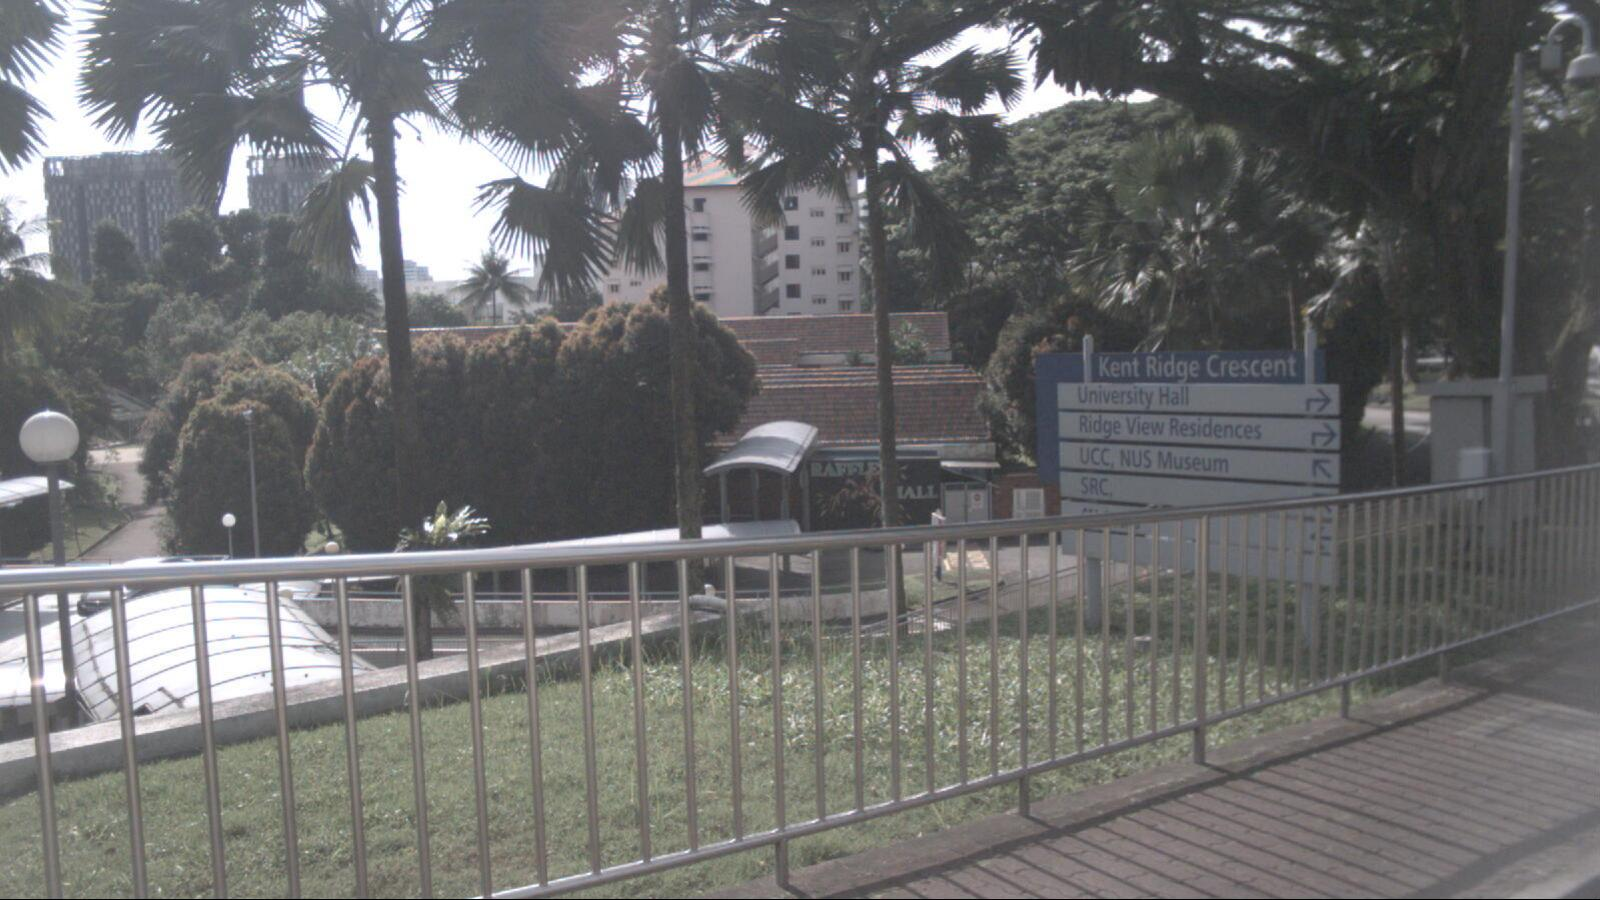human.pedestrian.adult-pedestrian.moving: (481, 576, 494, 618)
human.pedestrian.adult-pedestrian.standing: (727, 488, 742, 527), (757, 489, 768, 528), (711, 491, 722, 527)
human.pedestrian.child-pedestrian.standing: (768, 491, 781, 524)
